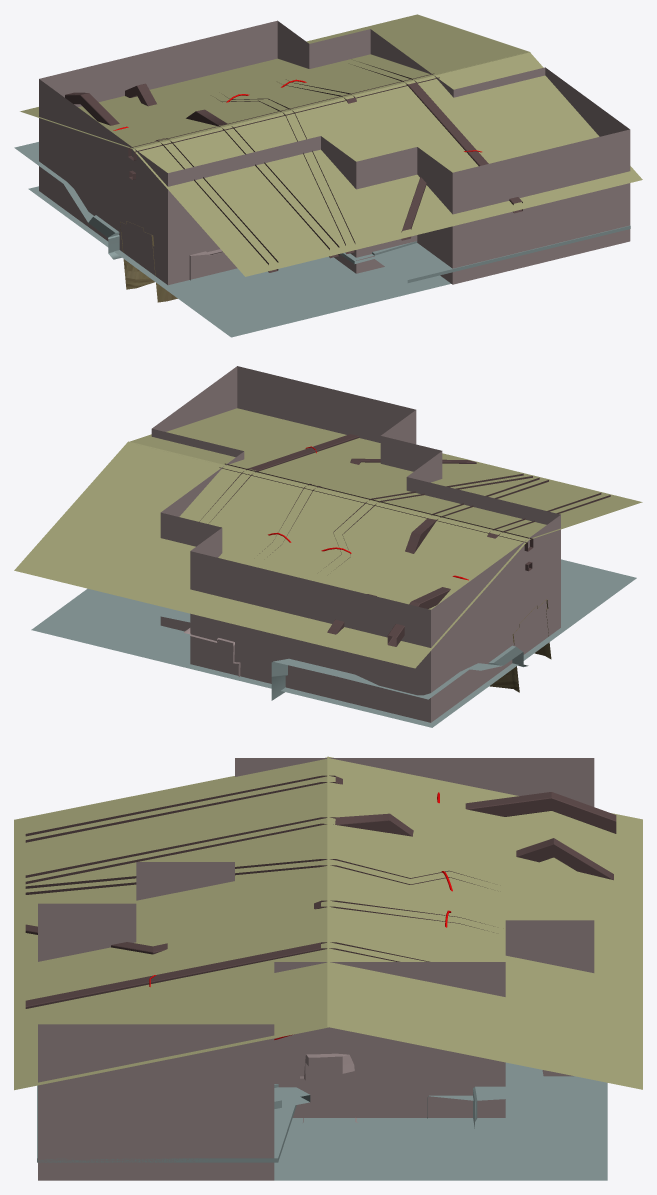
Rendered from NIVEL_1_FINALISIMO.fbx.
3 renders of one model, top to bottom at view 1: azimuth 30°, elevation 25°; view 2: azimuth 150°, elevation 25°; view 3: azimuth 270°, elevation 25°, orthographic. The views are drawn at different scales.
Visible parts, largest first — view 1: polySurface298, polySurface264, polySurface265, polySurface299, PISO1, polySurface268, polySurface259, polySurface289, polySurface291, polySurface283, polySurface290, polySurface266 (+3 smaller); view 2: polySurface299, polySurface264, polySurface298, polySurface265, PISO1, polySurface259, polySurface289, polySurface290, polySurface291, polySurface283, polySurface294, polySurface292 (+2 smaller); view 3: polySurface299, polySurface298, polySurface265, PISO1, polySurface259, polySurface264, polySurface290, polySurface291, polySurface283, polySurface268, polySurface275, polySurface292 (+2 smaller).
Part boxes in pixels (x1,y1,x2,y2): polySurface298: (132, 52, 642, 276); polySurface264: (39, 20, 320, 285); polySurface265: (321, 67, 630, 284); polySurface299: (20, 14, 530, 148); PISO1: (28, 186, 450, 337); polySurface268: (340, 225, 630, 282); polySurface259: (309, 29, 453, 97); polySurface289: (14, 142, 121, 259); polySurface291: (125, 83, 339, 258); polySurface283: (354, 62, 522, 213); polySurface290: (65, 92, 278, 272); polySurface266: (120, 221, 177, 302); polySurface299: (14, 441, 528, 668); polySurface264: (190, 477, 560, 722); polySurface298: (130, 408, 642, 539); polySurface265: (151, 366, 442, 482); PISO1: (31, 559, 636, 727); polySurface259: (160, 451, 244, 631); polySurface289: (271, 645, 528, 700); polySurface290: (387, 493, 610, 646); polySurface291: (327, 477, 548, 634); polySurface283: (199, 434, 359, 522); polySurface294: (219, 463, 533, 551); polySurface292: (326, 473, 532, 566); polySurface299: (327, 756, 642, 1089); polySurface298: (14, 757, 328, 1090); polySurface265: (38, 862, 274, 1180); PISO1: (274, 1076, 607, 1180); polySurface259: (274, 962, 505, 1117); polySurface264: (235, 758, 594, 1076); polySurface290: (25, 775, 616, 842); polySurface291: (25, 813, 613, 883); polySurface283: (25, 942, 429, 1008); polySurface268: (37, 1085, 296, 1162); polySurface275: (473, 1062, 546, 1128); polySurface292: (25, 859, 487, 894).
Bounding box in the file's own units: 13.31 × 4.76 × 12.78.
